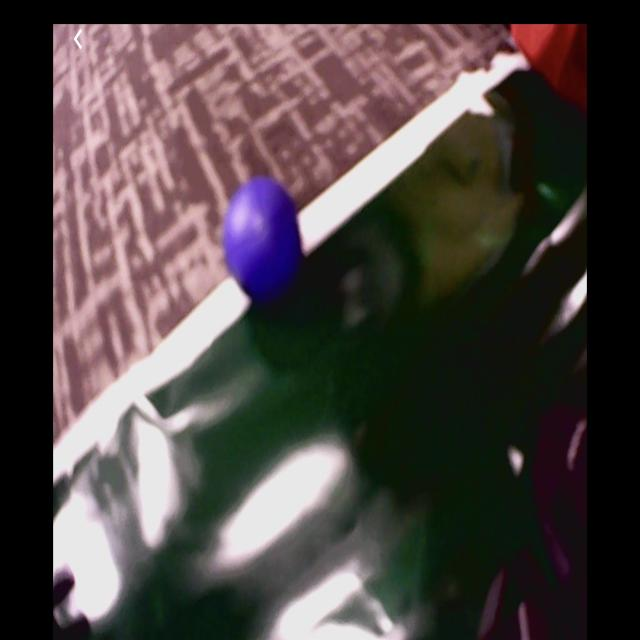ball: (224, 178, 302, 300)
